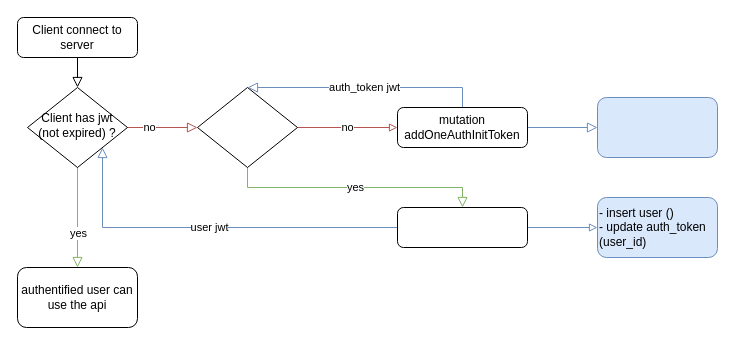
Image size: 735x345. Some labels were removed from this diagram. Here are the shapes that lost their labels. From the top down, the centre of each, then its label:
At [247,127]: "Client has auth_token ?".
At [657,127]: "- insert auth_token (auth_token)".
At [462,227]: "mutation doAuthLoginToken".
